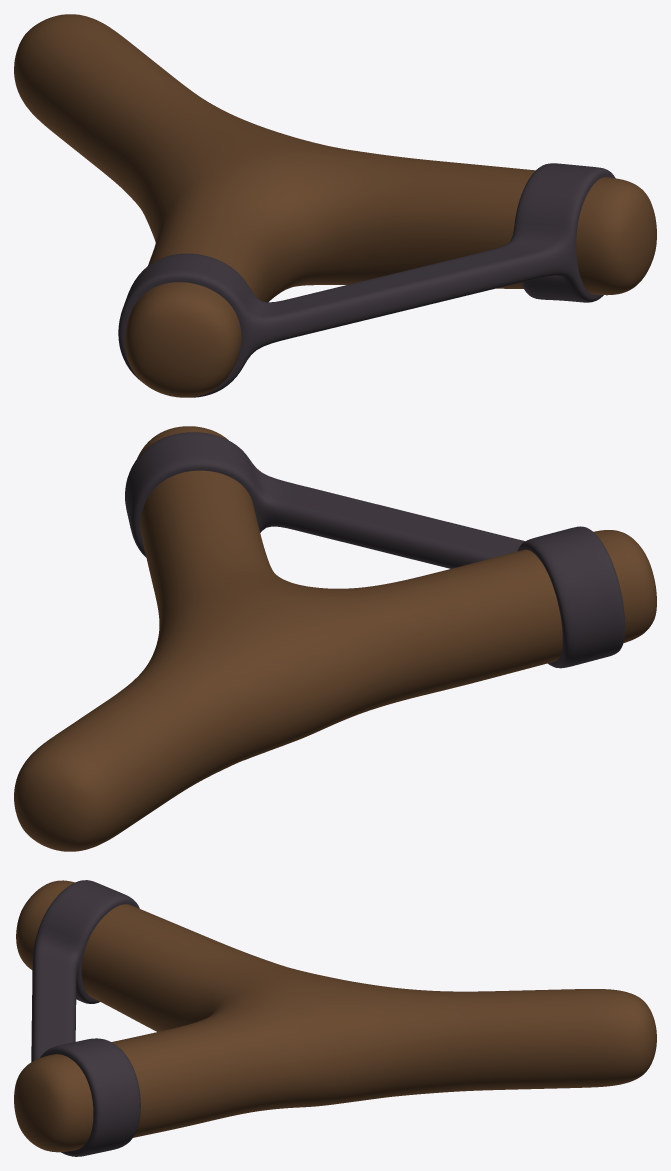
The model's file is Slingshot.fbx.
The picture shows the model from 3 angles, top to bottom: view 1: azimuth 30°, elevation 25°; view 2: azimuth 150°, elevation 25°; view 3: azimuth 270°, elevation 25°; orthographic projection. The views are drawn at different scales.
Parts seen in each view (by area): view 1: Cube.025; view 2: Cube.025; view 3: Cube.025.
Part boxes in pixels (<box>): Cube.025: <box>14,14,656,397</box>; Cube.025: <box>14,426,656,851</box>; Cube.025: <box>14,880,656,1156</box>.
Size of the model in its own units: 83.86 by 22.47 by 106.
